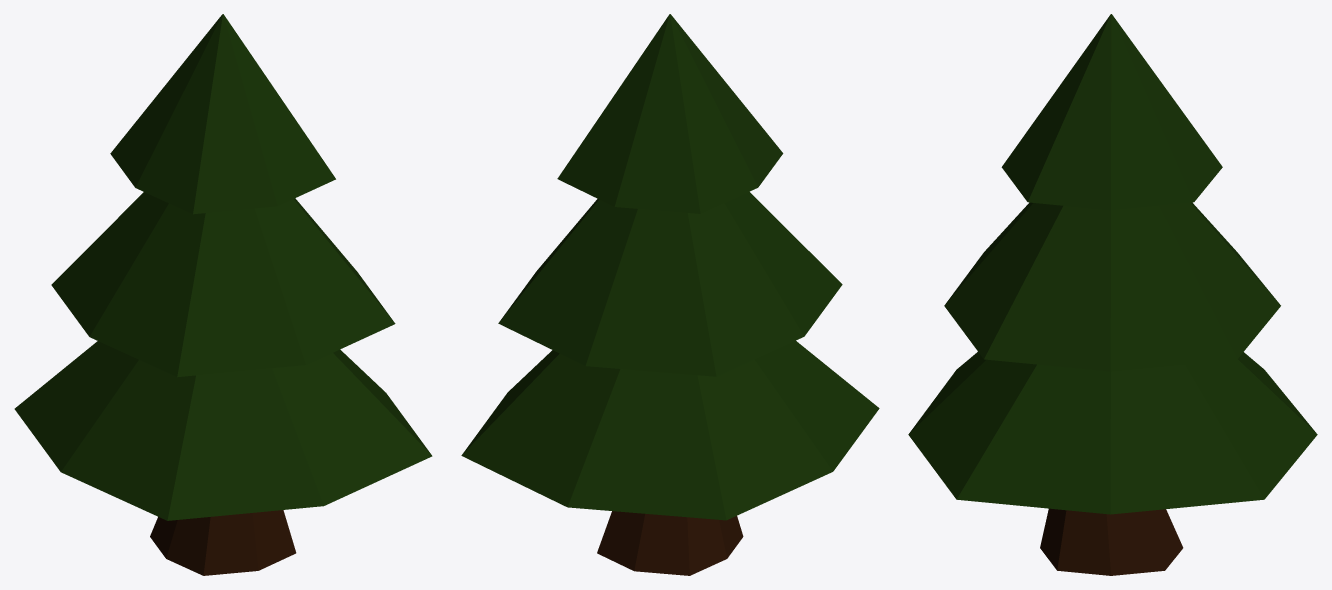
The model's file is Tree.fbx.
3 renders of one model, left to right at view 1: azimuth 30°, elevation 25°; view 2: azimuth 150°, elevation 25°; view 3: azimuth 270°, elevation 25°, orthographic.
Visible parts, largest first — view 1: Cube; view 2: Cube; view 3: Cube.
Boxes of the visible parts, left/top/right/bottom form: Cube: left=14, top=14, right=432, bottom=575; Cube: left=461, top=14, right=879, bottom=575; Cube: left=908, top=14, right=1317, bottom=575.
Size of the model in its own units: 1034 by 1611 by 1120.
